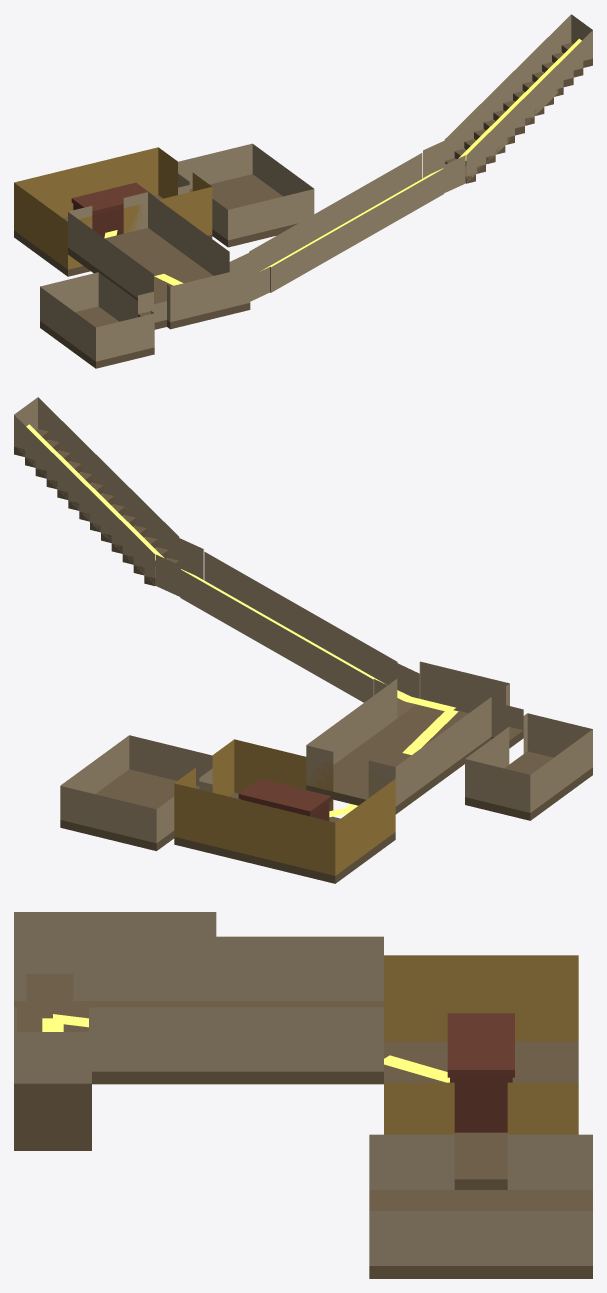
3 views of the same model, one above another, from view 1: azimuth 30°, elevation 25°; view 2: azimuth 150°, elevation 25°; view 3: azimuth 270°, elevation 25° (orthographic). The views are drawn at different scales.
Parts seen in each view (by area): view 1: Documented architecture, Route; view 2: Documented architecture, Route; view 3: Documented architecture, Route.
Boxes of the visible parts, left/top/right/bottom form: Documented architecture: left=14, top=14, right=592, bottom=368; Route: left=104, top=38, right=581, bottom=285; Documented architecture: left=14, top=397, right=592, bottom=883; Route: left=26, top=424, right=458, bottom=817; Documented architecture: left=14, top=912, right=592, bottom=1278; Route: left=42, top=1014, right=449, bottom=1082.
Bounding box in the file's own units: 0.4406 × 0.1902 × 0.2461.
